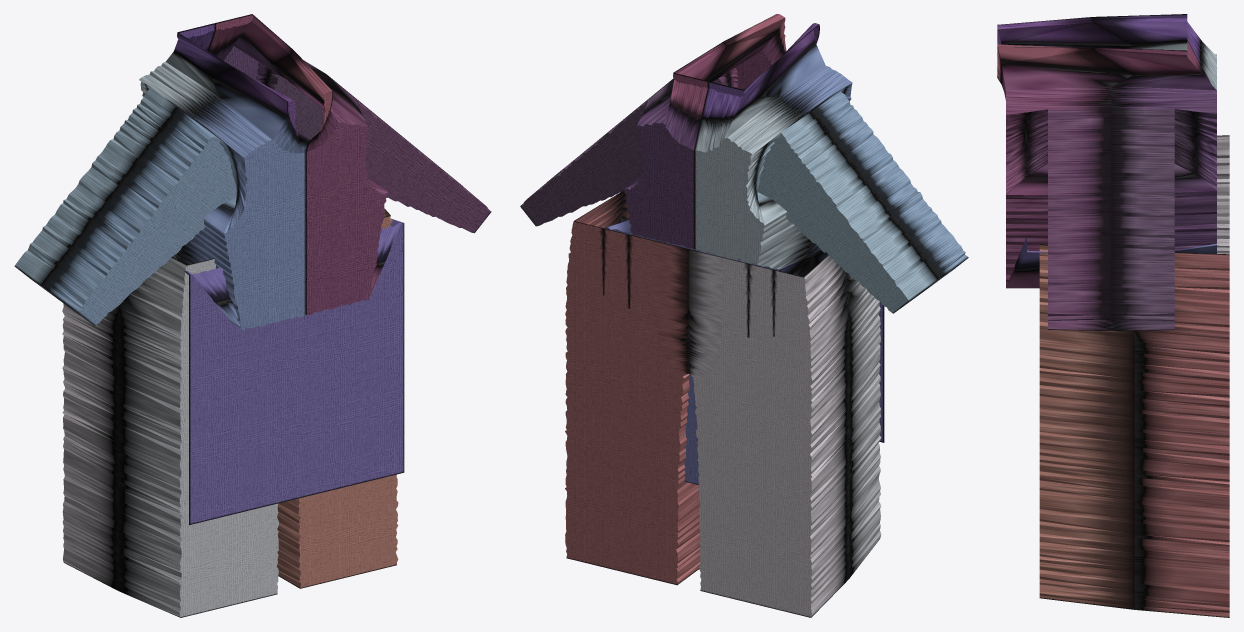
File: ao_dai_boxmesh.obj
3 views of the same model, side by side, from view 1: azimuth 30°, elevation 25°; view 2: azimuth 150°, elevation 25°; view 3: azimuth 270°, elevation 25° (orthographic). The views are drawn at different scales.
Size of the model in its own units: 114 by 137 by 55.
Materials: 1 (1 with a texture image).
